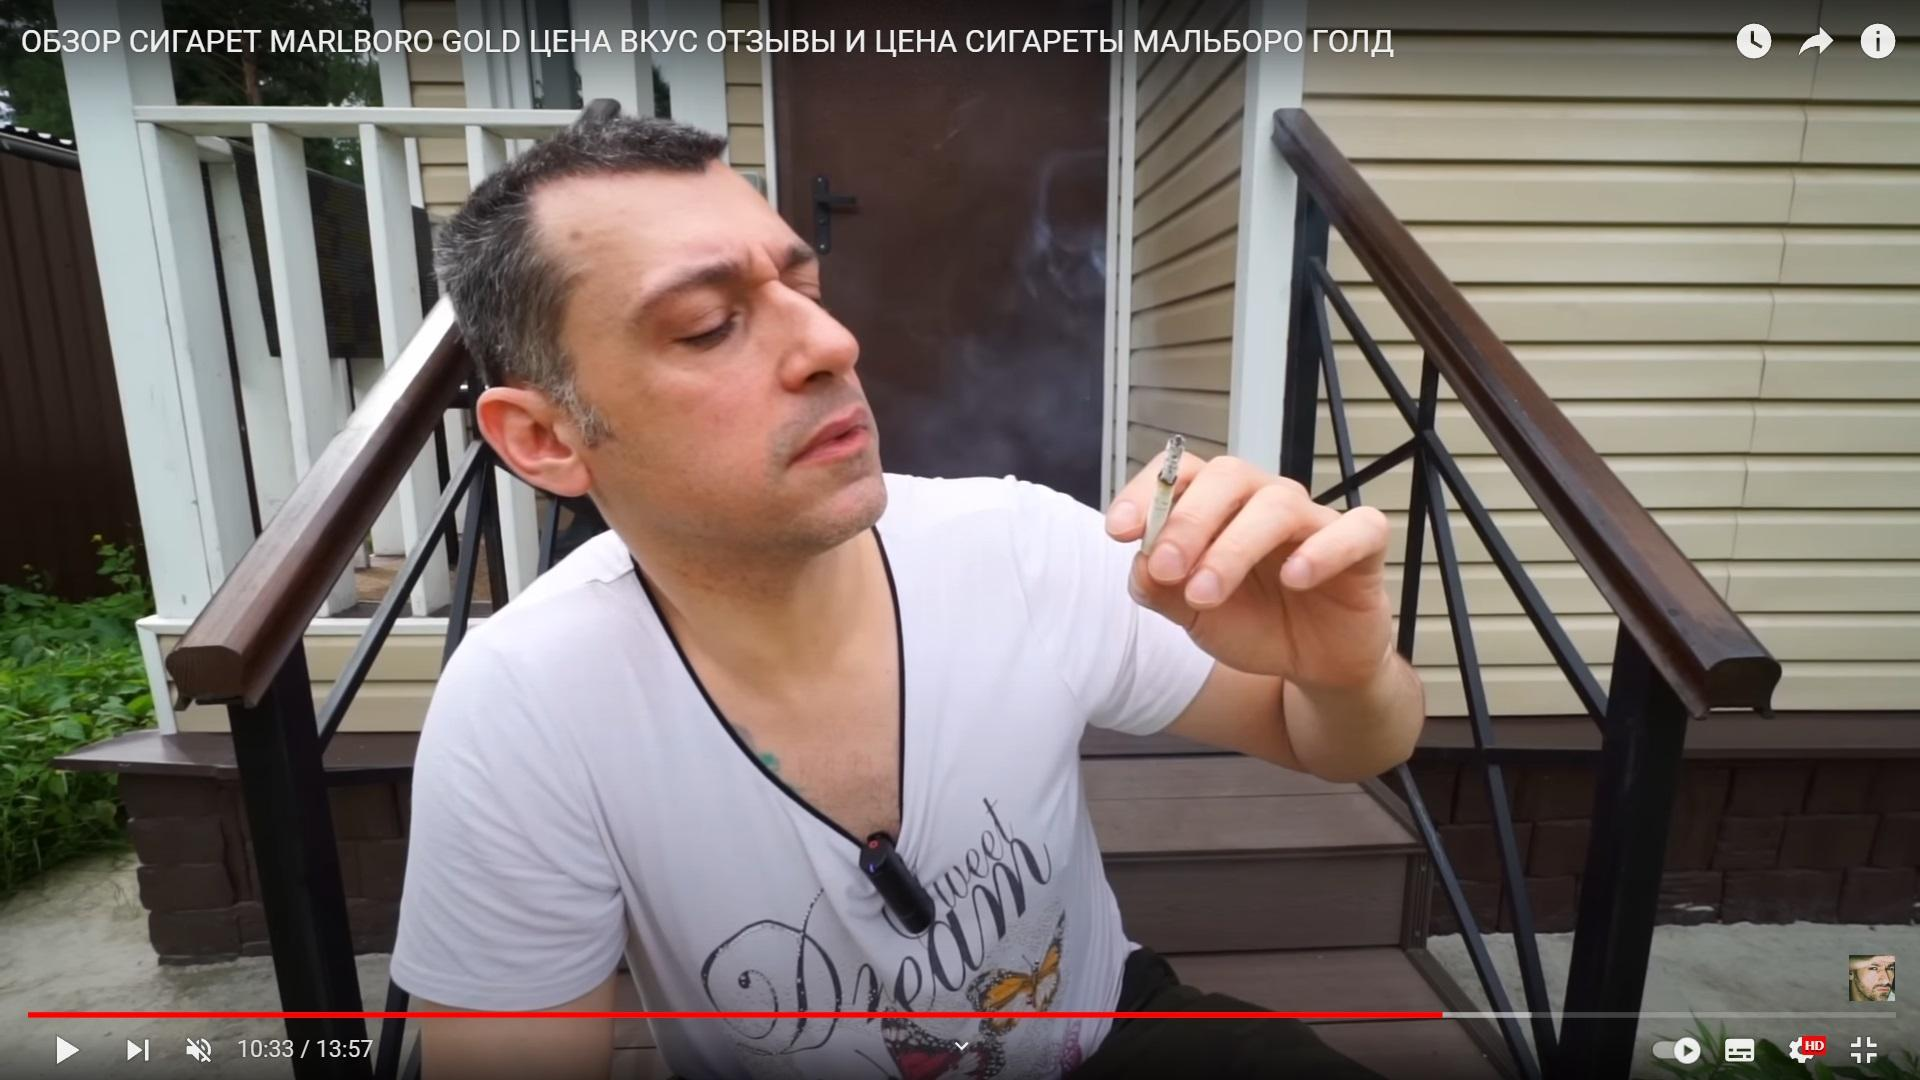cigarette: (1139, 435, 1187, 555)
